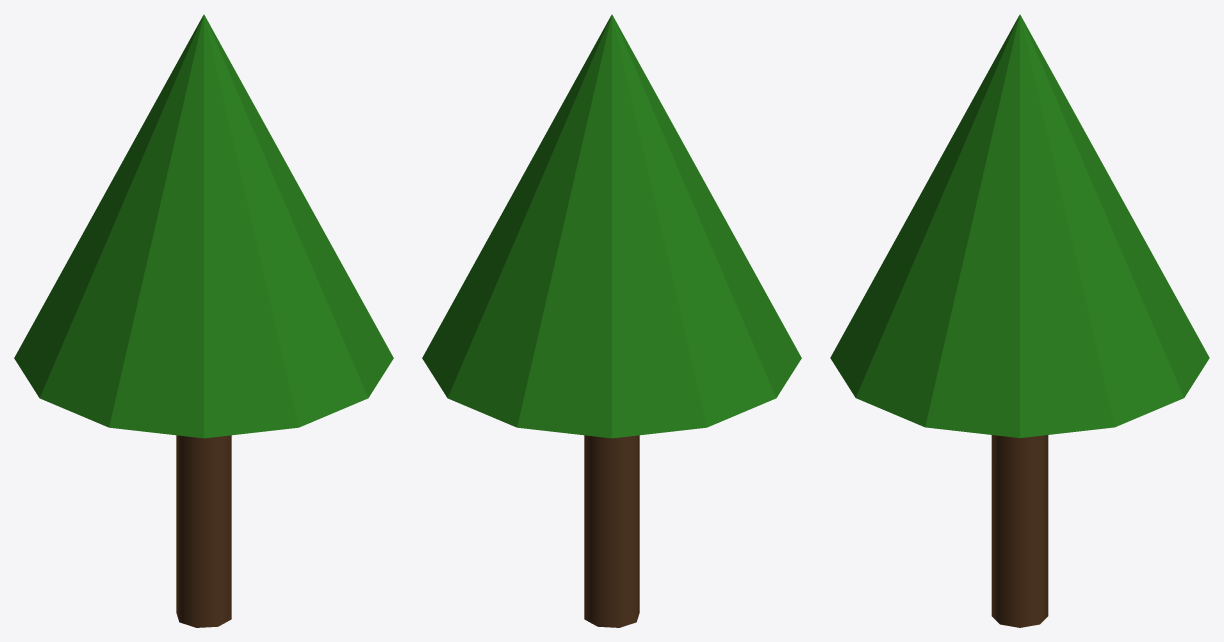
File: tree_01.obj
3 renders of one model, left to right at view 1: azimuth 30°, elevation 25°; view 2: azimuth 150°, elevation 25°; view 3: azimuth 270°, elevation 25°, orthographic.
Parts seen in each view (by area): view 1: Tree01; view 2: Tree01; view 3: Tree01.
Part boxes in pixels (box(x1,y1,x2,y2)): Tree01: box(14, 14, 393, 627); Tree01: box(422, 14, 801, 627); Tree01: box(830, 14, 1209, 627).
Bounding box in the file's own units: 4 × 7 × 4.
